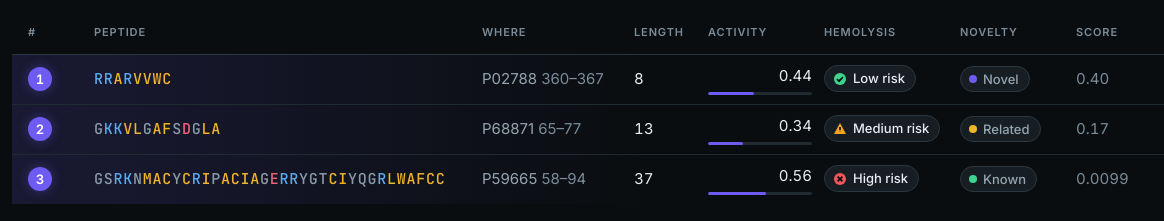
Test case: ResultsTable › opens the candidate when a row is clicked
Click the row "GKKVLGAFSDGLA": (588, 130) [12,105,1163,155]
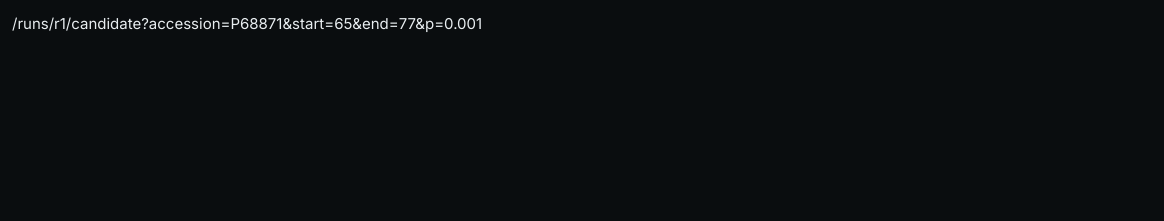
Result: the text with test id "where" shows "accession=P68871&start=65&end=77" at [12,14,482,33]
